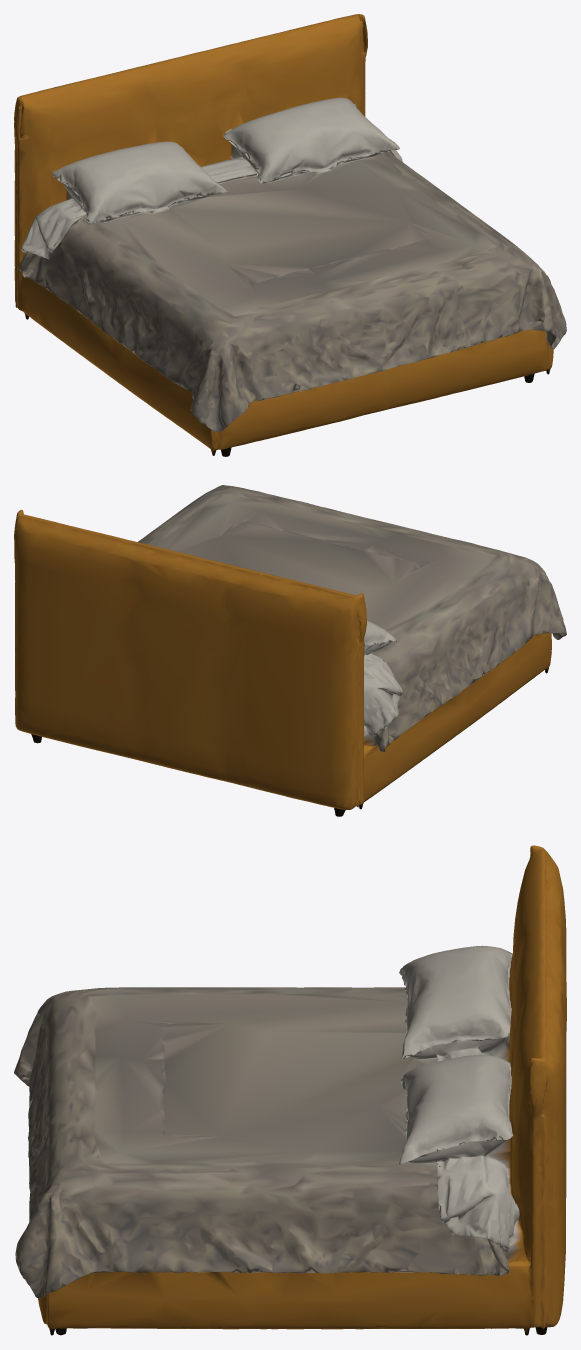
Rendered from cama.glb.
3 views of the same model, one above another, from view 1: azimuth 30°, elevation 25°; view 2: azimuth 150°, elevation 25°; view 3: azimuth 270°, elevation 25° (orthographic). The views are drawn at different scales.
Bounding box in the file's own units: 0.9976 × 0.5703 × 0.9946.
